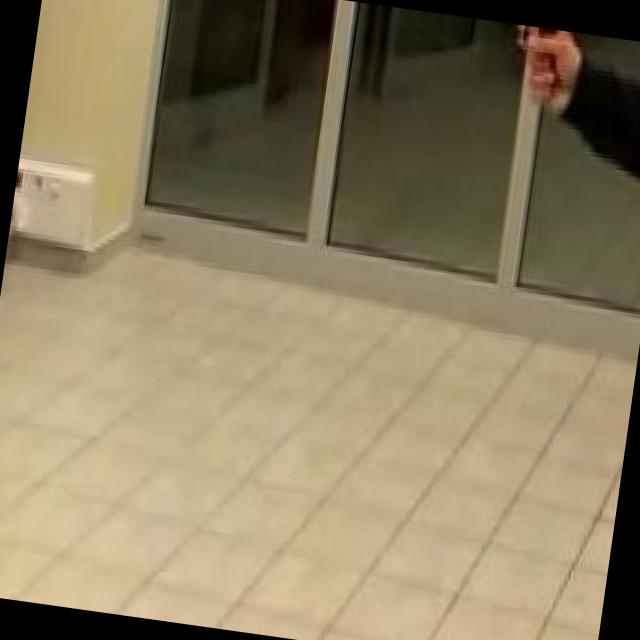Guns: (456, 17, 576, 62)
